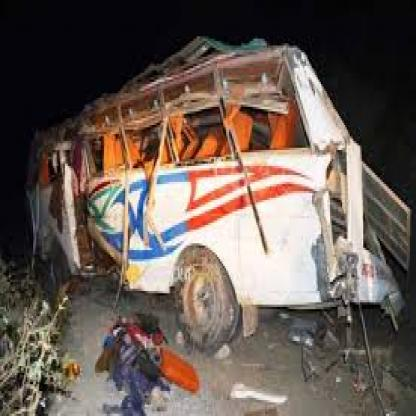accident: (18, 34, 412, 360)
